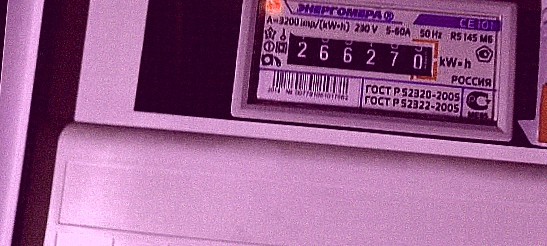0: (410, 50, 423, 71)
2: (294, 38, 310, 60), (364, 46, 377, 67)
6: (317, 42, 331, 63), (341, 44, 354, 64)
7: (387, 48, 400, 68)
screen: (272, 19, 450, 90)
